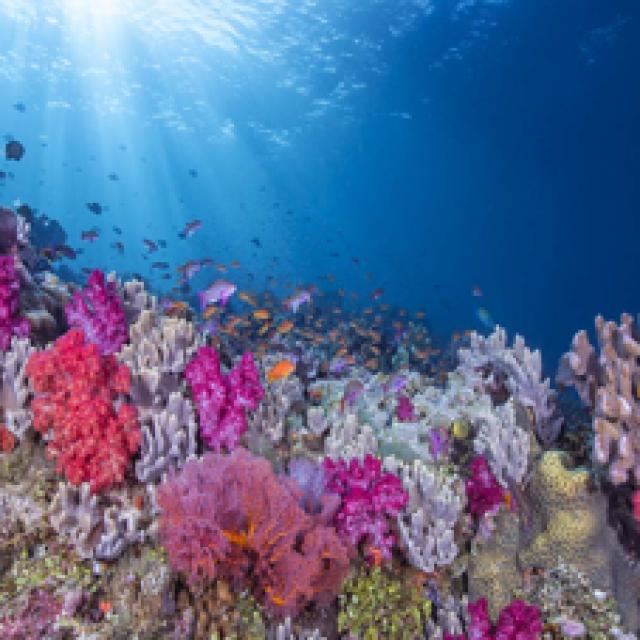Healthy: (243, 331, 559, 635), (159, 449, 351, 613), (29, 331, 139, 489), (119, 305, 201, 480), (559, 317, 638, 497), (500, 571, 627, 638), (187, 348, 263, 449), (122, 297, 204, 379), (52, 489, 142, 559), (69, 272, 128, 353)
